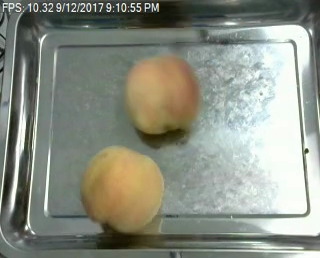Peach: (82, 145, 165, 232), (124, 55, 199, 135)
